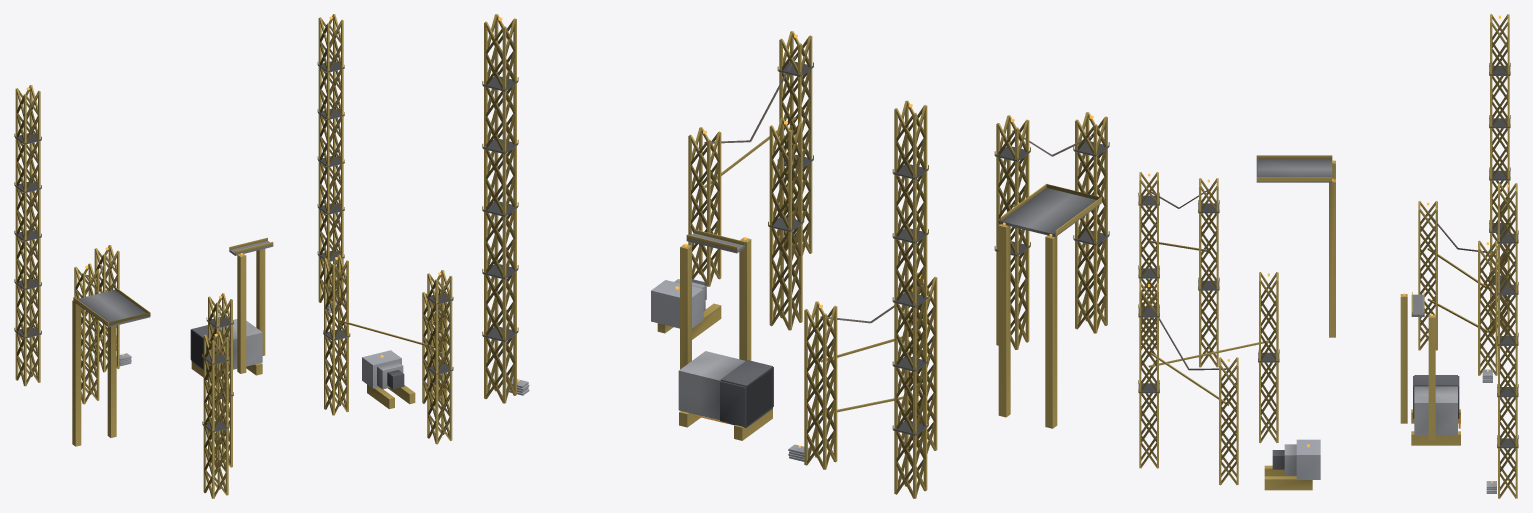
Rendered from 03_scaffold_yard.glb.
3 renders of one model, left to right at view 1: azimuth 30°, elevation 25°; view 2: azimuth 150°, elevation 25°; view 3: azimuth 270°, elevation 25°, orthographic. The views are drawn at different scales.
Parts seen in each view (by area): view 1: scaffold_yard_truss, scaffold_yard_deck, scaffold_yard_shiphull, scaffold_yard_hulldark; view 2: scaffold_yard_truss, scaffold_yard_deck, scaffold_yard_shiphull, scaffold_yard_hulldark, scaffold_yard_truss_nocol; view 3: scaffold_yard_truss, scaffold_yard_deck, scaffold_yard_shiphull, scaffold_yard_truss_nocol, scaffold_yard_hulldark, scaffold_yard_pipe_nocol.
Boxes of the visible parts, <box> form: scaffold_yard_truss: <box>14,14,453,498</box>; scaffold_yard_deck: <box>15,61,452,432</box>; scaffold_yard_shiphull: <box>116,301,403,389</box>; scaffold_yard_hulldark: <box>190,325,404,389</box>; scaffold_yard_truss: <box>482,14,1109,498</box>; scaffold_yard_deck: <box>483,61,1108,435</box>; scaffold_yard_shiphull: <box>507,279,810,461</box>; scaffold_yard_hulldark: <box>692,279,773,427</box>; scaffold_yard_truss_nocol: <box>704,116,1014,415</box>; scaffold_yard_truss: <box>1138,14,1518,498</box>; scaffold_yard_deck: <box>1138,65,1518,448</box>; scaffold_yard_shiphull: <box>1284,369,1496,493</box>; scaffold_yard_truss_nocol: <box>1148,240,1488,405</box>; scaffold_yard_hulldark: <box>1272,375,1459,469</box>; scaffold_yard_pipe_nocol: <box>1150,189,1488,370</box>.
Bounding box in the file's own units: 109 × 90.65 × 95.43.
